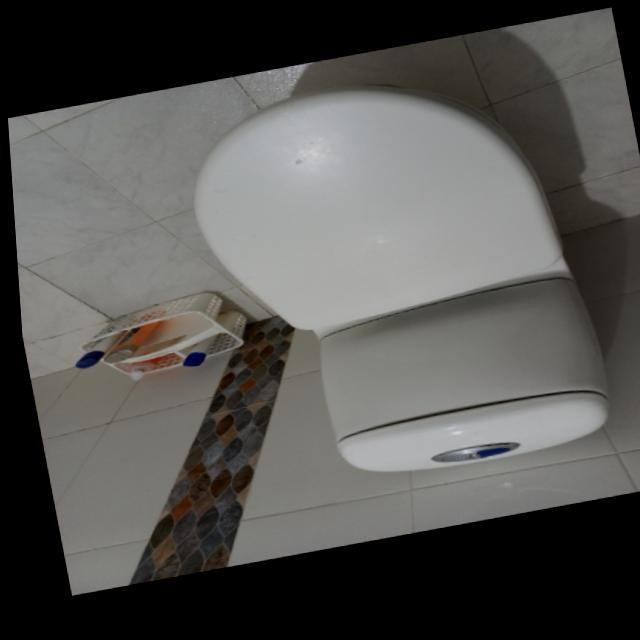toilet: (170, 52, 615, 510)
